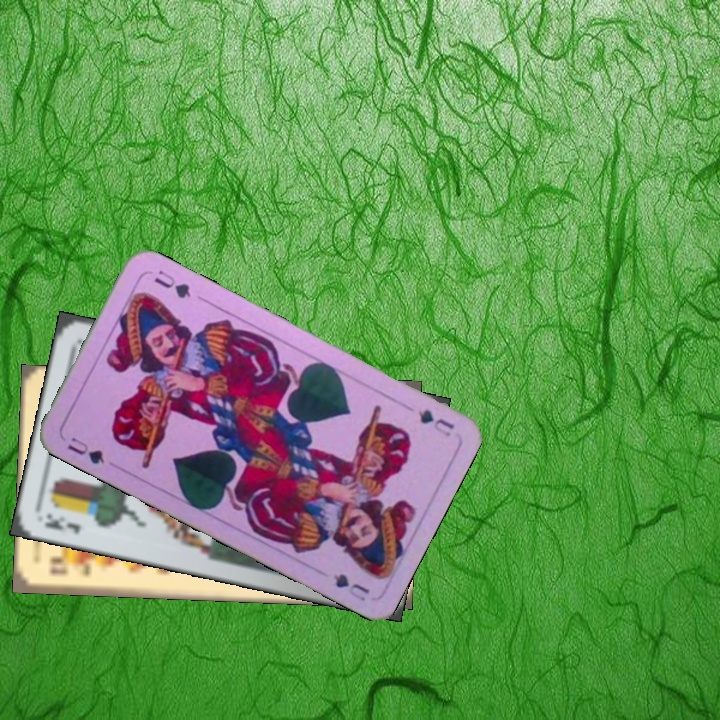E10: (46, 559, 92, 578)
EK: (40, 509, 84, 538)
GU: (63, 433, 107, 467), (414, 405, 457, 439)
